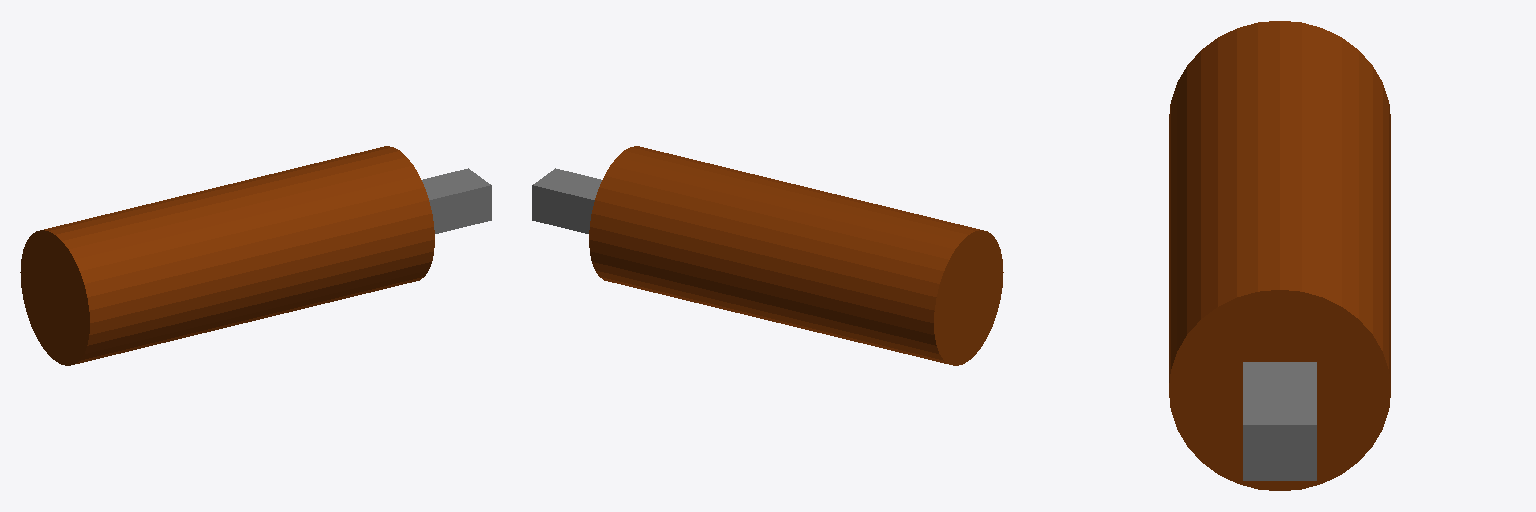
The robot description file, URDF, robot "handle_head":
<?xml version="1.0"?>
<robot name="handle_head">

  <link name="handle_head">
    <!-- Handle -->
    <visual>
              <origin xyz="0 0 0" rpy="0 -1.5707963267948966 0"/>
        <geometry>
          <cylinder length="0.08094132181994915" radius="0.014148389209704695"/>
        </geometry>
        
      <material name="brown">
        <color rgba="0.55 0.27 0.07 1.0"/>
      </material>
    </visual>
    <collision>
              <origin xyz="0 0 0" rpy="0 -1.5707963267948966 0"/>
        <geometry>
          <cylinder length="0.08094132181994915" radius="0.014148389209704695"/>
        </geometry>
        
    </collision>

    <!-- Head -->
    <visual>
              <origin xyz="0.049832314191119054 0 0" rpy="0 0 0"/>
        <geometry>
          <box size="0.018723306562288954 0.009373583501570915 0.007931251340343975"/>
        </geometry>
        
      <material name="gray">
        <color rgba="0.5 0.5 0.5 1.0"/>
      </material>
    </visual>
    <collision>
              <origin xyz="0.049832314191119054 0 0" rpy="0 0 0"/>
        <geometry>
          <box size="0.018723306562288954 0.009373583501570915 0.007931251340343975"/>
        </geometry>
        
    </collision>

    <inertial>
      <origin xyz="0.0009728262686915323 0 0" rpy="0 0 0"/>
      <mass value="0.0381577636805693"/>
      <inertia ixx="3.612398674039319e-06" iyy="3.5108139776495815e-05" izz="3.510968915899888e-05" ixy="0" ixz="0" iyz="0"/>
    </inertial>
  </link>

</robot>

--- Facts derived from the render (not from the file) ---
The picture shows the robot from 3 angles, left to right: view 1: azimuth 30°, elevation 25°; view 2: azimuth 150°, elevation 25°; view 3: azimuth 270°, elevation 25°; orthographic projection.
Robot: handle_head — 1 links, 0 joints (none); root link handle_head; default pose: every joint at zero.
Links seen in each view (by area): view 1: handle_head; view 2: handle_head; view 3: handle_head.
Boxes of the visible links, x1,y1,x2,y2 form: handle_head: [20, 146, 491, 365]; handle_head: [532, 146, 1003, 365]; handle_head: [1169, 21, 1390, 490].
Bounding box of the posed robot: 0.0997 × 0.0283 × 0.0283 m (x, y, z).
Geometry: primitives only (box / cylinder / sphere), no mesh files.
